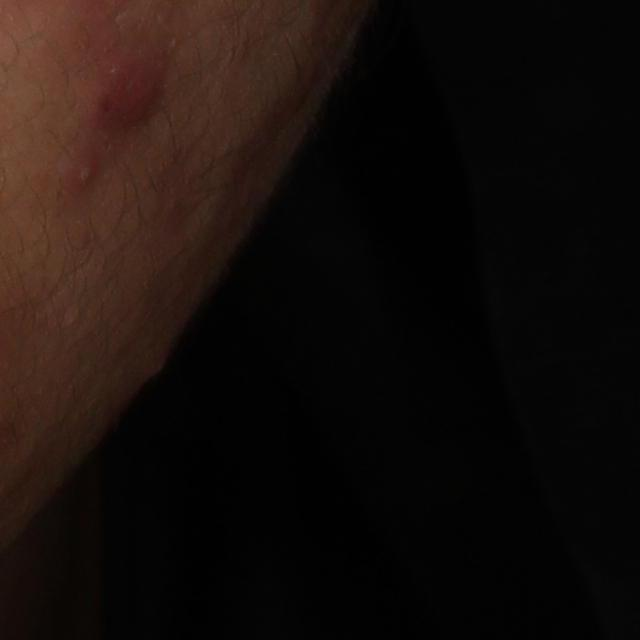papule: (90, 52, 172, 136)
